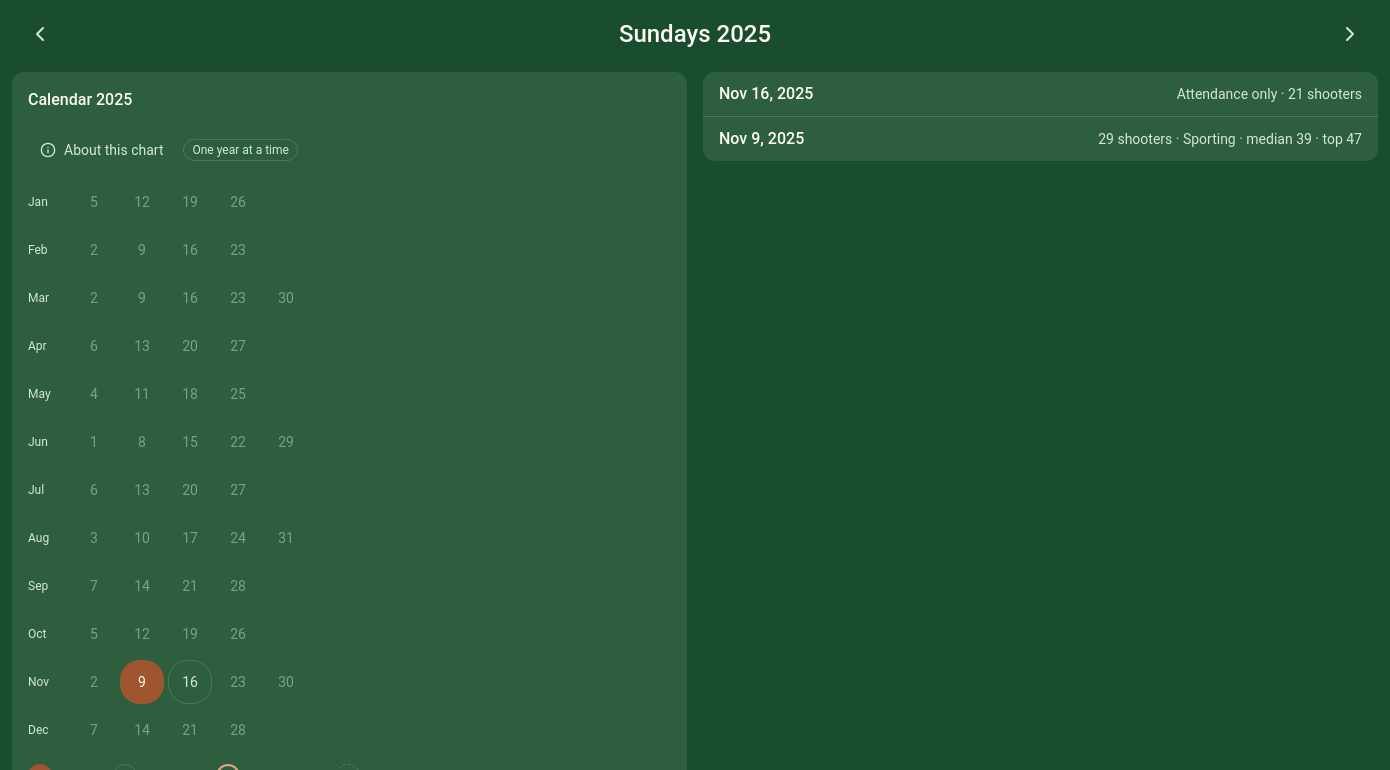
EventsPage › next-season button moves forward to the following season
Check: the heading "Sundays 2025" is shown, box [619,18,771,50]
Click the button named "Next year" at (1350, 34), box [1322,12,1378,56]
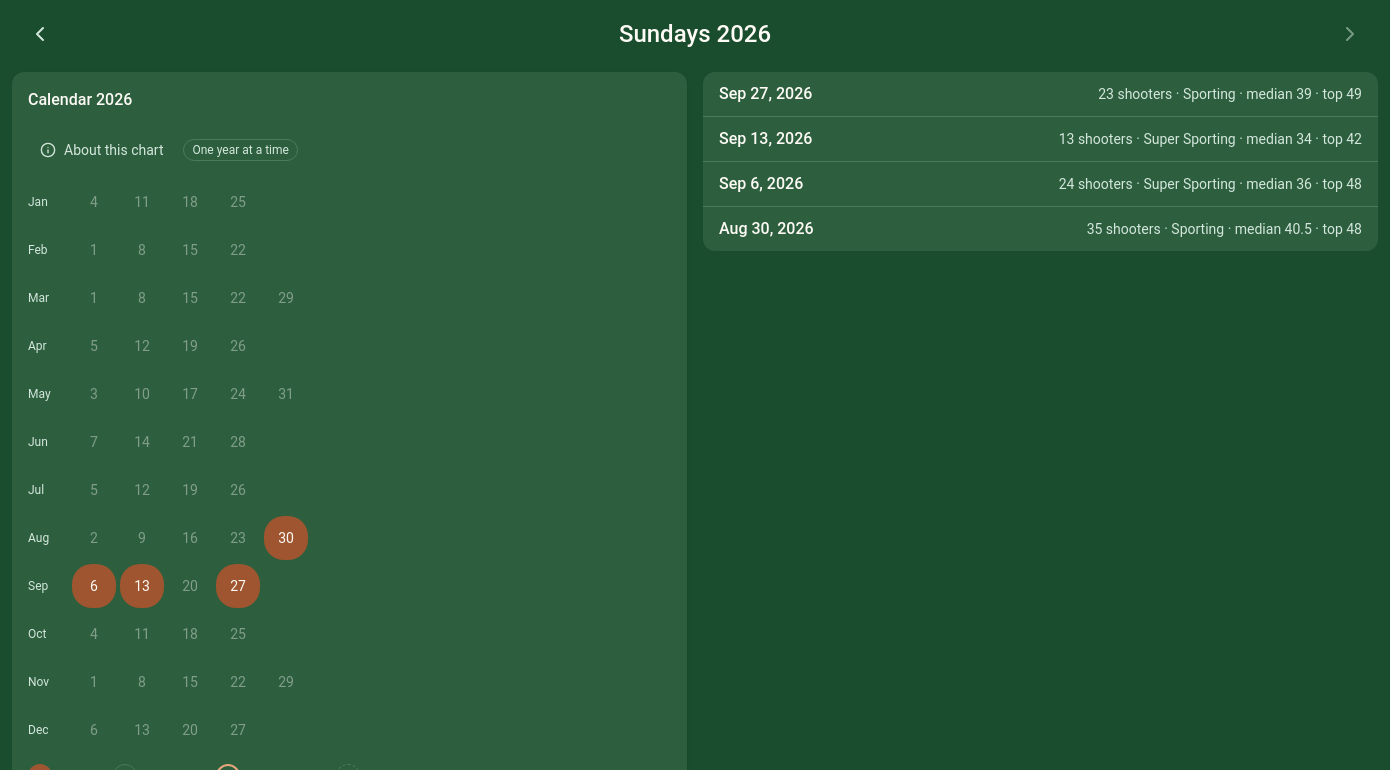
Check: the heading "Sundays 2026" is shown, box [619,18,771,50]
Check: the list named "Sundays in 2026" is shown, box [703,72,1378,251]
